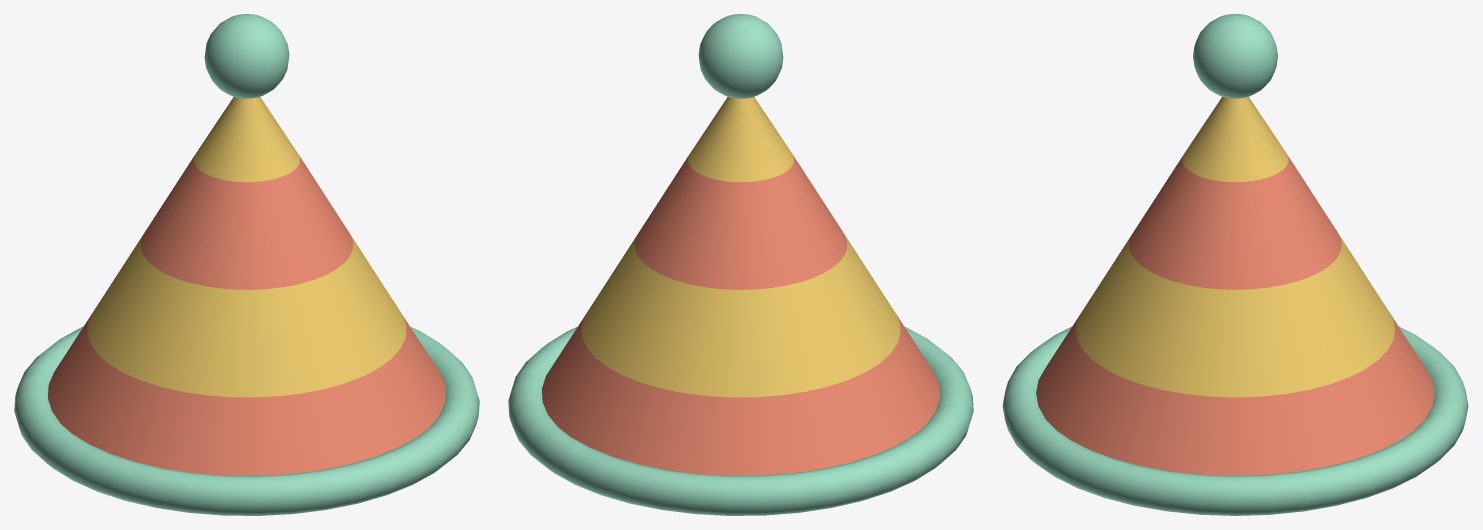
The model's file is partyhat.glb.
3 views of the same model, side by side, from view 1: azimuth 30°, elevation 25°; view 2: azimuth 150°, elevation 25°; view 3: azimuth 270°, elevation 25° (orthographic).
Visible parts, largest first — view 1: partyhat_Stripe1, partyhat_Stripe0, partyhat_BaseBand, partyhat_Stripe2, partyhat_Stripe3, partyhat_Pompom; view 2: partyhat_Stripe1, partyhat_Stripe0, partyhat_BaseBand, partyhat_Stripe2, partyhat_Stripe3, partyhat_Pompom; view 3: partyhat_Stripe1, partyhat_Stripe0, partyhat_BaseBand, partyhat_Stripe2, partyhat_Stripe3, partyhat_Pompom.
Boxes of the visible parts, <box> form: partyhat_Stripe1: <box>87,234,406,397</box>; partyhat_Stripe0: <box>48,314,445,475</box>; partyhat_BaseBand: <box>14,326,479,515</box>; partyhat_Stripe2: <box>140,155,353,289</box>; partyhat_Stripe3: <box>194,97,299,182</box>; partyhat_Pompom: <box>204,14,289,98</box>; partyhat_Stripe1: <box>581,234,900,397</box>; partyhat_Stripe0: <box>542,314,939,475</box>; partyhat_BaseBand: <box>508,326,973,515</box>; partyhat_Stripe2: <box>634,155,847,289</box>; partyhat_Stripe3: <box>688,97,793,182</box>; partyhat_Pompom: <box>698,14,783,98</box>; partyhat_Stripe1: <box>1076,233,1394,397</box>; partyhat_Stripe0: <box>1036,312,1434,475</box>; partyhat_BaseBand: <box>1002,326,1468,515</box>; partyhat_Stripe2: <box>1129,154,1341,289</box>; partyhat_Stripe3: <box>1182,97,1288,181</box>; partyhat_Pompom: <box>1193,14,1277,98</box>.
Bounding box in the file's own units: 0.372 × 0.358 × 0.372.
